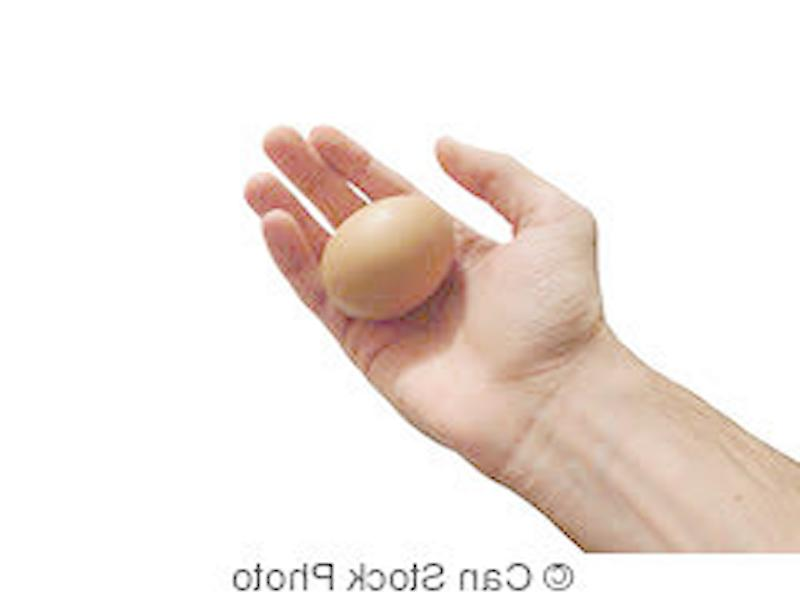Eggs: (319, 200, 449, 317)
